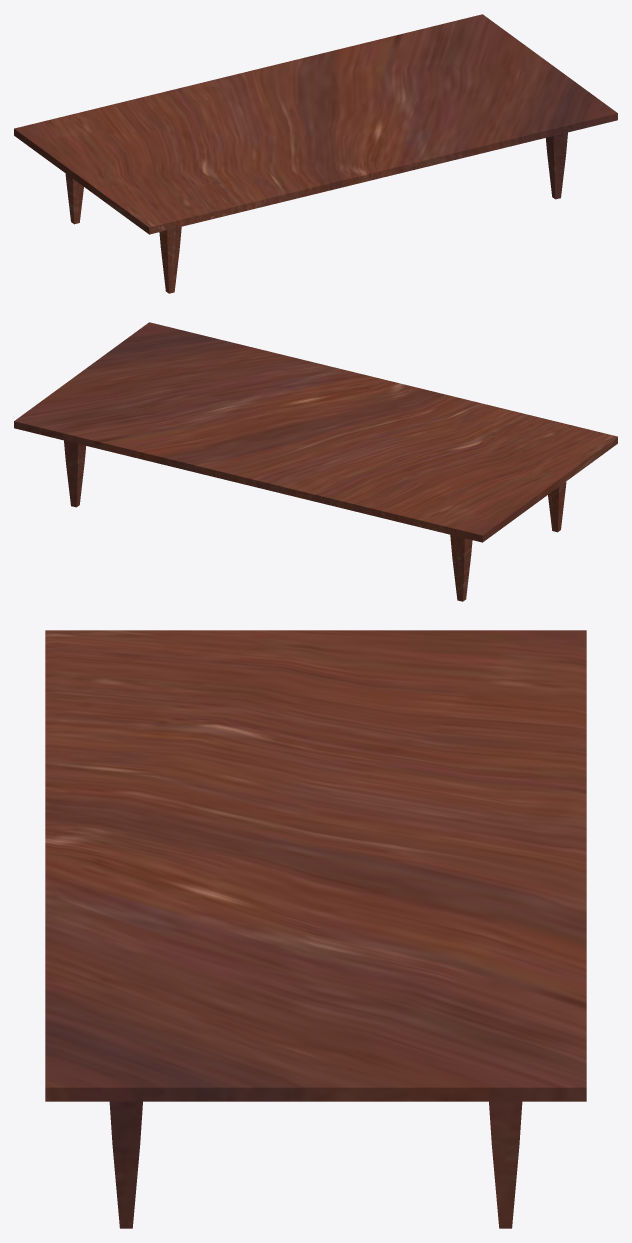
File: table.obj
3 views of the same model, one above another, from view 1: azimuth 30°, elevation 25°; view 2: azimuth 150°, elevation 25°; view 3: azimuth 270°, elevation 25° (orthographic). The views are drawn at different scales.
Visible parts, largest first — view 1: Cube; view 2: Cube; view 3: Cube.
Part boxes in pixels (<box>): Cube: <box>14,14,617,293</box>; Cube: <box>14,322,617,601</box>; Cube: <box>45,630,586,1228</box>.
Size of the model in its own units: 4 by 0.7279 by 2.
Materials: 1 (1 with a texture image).
